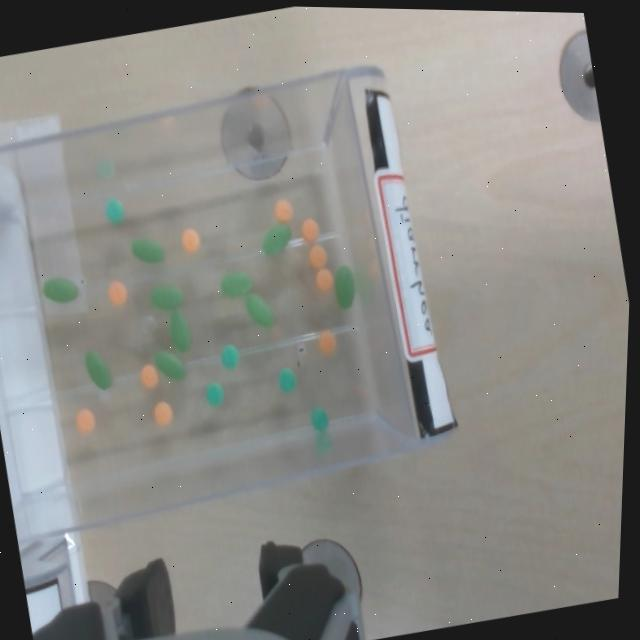famodine: (217, 342, 239, 370), (102, 196, 124, 223), (203, 379, 224, 406), (276, 365, 297, 392), (308, 404, 330, 429), (105, 197, 124, 222), (278, 366, 296, 391), (310, 406, 328, 431), (221, 343, 238, 367), (206, 381, 223, 405)
otillen_tab: (151, 344, 187, 383), (82, 347, 113, 392), (39, 272, 80, 306), (242, 289, 274, 330), (127, 231, 165, 265), (166, 307, 193, 352), (259, 222, 293, 256), (331, 264, 356, 309), (148, 279, 183, 311), (84, 350, 111, 388), (218, 269, 254, 297), (244, 292, 273, 326), (153, 349, 185, 379), (42, 276, 78, 302), (262, 222, 291, 254), (334, 264, 354, 308), (169, 309, 190, 350), (131, 237, 164, 262), (151, 283, 182, 309), (221, 271, 251, 295)
samsung_octylonium_tab: (178, 225, 202, 254), (306, 241, 328, 268), (73, 407, 95, 433), (313, 267, 334, 292), (151, 400, 172, 425), (137, 362, 158, 387), (107, 279, 127, 305), (106, 279, 127, 303), (273, 197, 293, 222), (299, 217, 319, 242), (75, 407, 95, 432), (316, 329, 336, 353), (181, 227, 200, 252), (140, 363, 159, 388), (153, 400, 172, 425), (301, 217, 319, 242), (309, 243, 326, 269), (318, 330, 336, 354), (315, 266, 333, 290), (274, 198, 292, 222)
